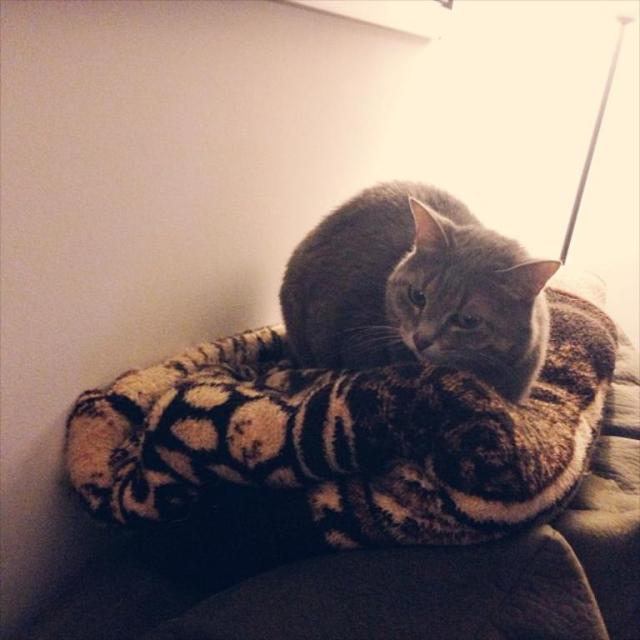Cat: (275, 177, 564, 406)
